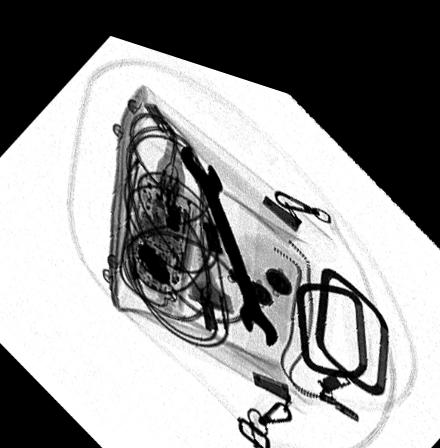Wrench: (177, 129, 278, 330)
